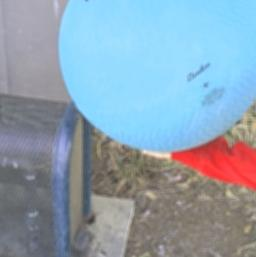algae: (61, 0, 256, 158)
